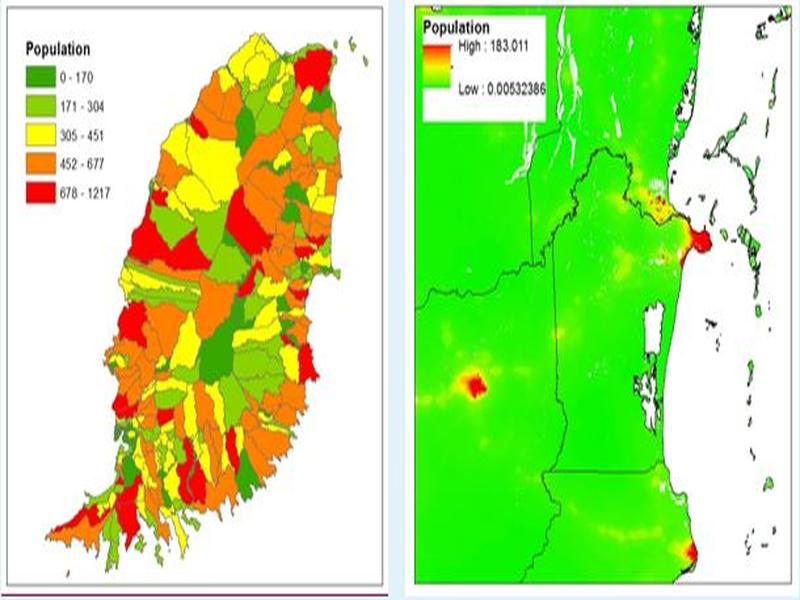legend: (24, 39, 113, 205), (421, 13, 549, 125)
